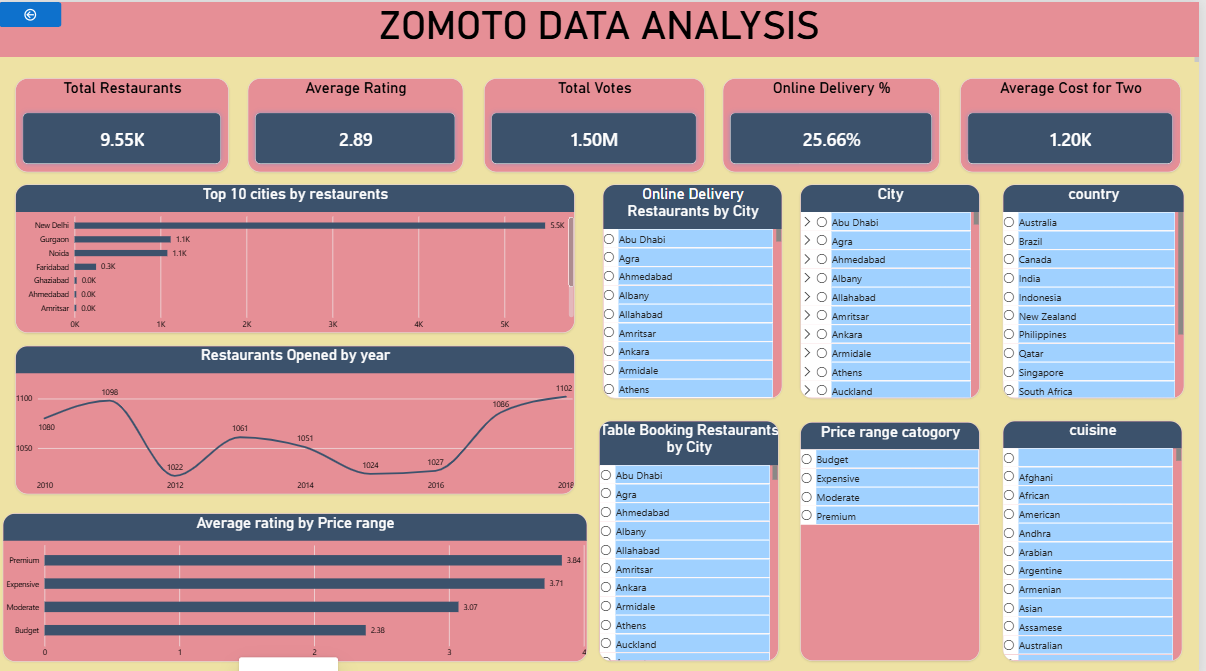

The page's visual inventory and layout, read from the dashboard file:
{"tool":"powerbi","page":{"name":"Dashboard2","canvas":[1920,1080],"ordinal":1},"visuals":[{"type":"textbox","title":"ZOMOTO DATA ANALYSIS","box":[0,0,1920.7,95.9],"z":0},{"type":"cardVisual","title":"Total Restaurants","fields":{"Data":["measures (2).Toatl restaurents"]},"box":[25,122.2,341.7,150],"z":1000},{"type":"cardVisual","title":"Average Rating","fields":{"Data":["measures (2).Avg rating"]},"box":[397.2,122.2,344.4,150],"z":2000},{"type":"cardVisual","title":"Total Votes","fields":{"Data":["measures (2).Total votes"]},"box":[775,122.2,352.8,150],"z":3000},{"type":"cardVisual","title":"Online Delivery %","fields":{"Data":["measures (2).Online Delivery %"]},"box":[1158.3,122.2,347.2,150],"z":4000},{"type":"cardVisual","title":"Average Cost for Two","fields":{"Data":["measures (2).Average Cost for Two"]},"box":[1538.9,122.2,352.8,150],"z":5000},{"type":"clusteredBarChart","title":"Top 10 cities by restaurents","fields":{"Category":["frestaurant.City"],"Y":["measures (2).Toatl restaurents"]},"box":[25,292.5,895,237.5],"z":6000},{"type":"clusteredBarChart","title":"Average rating by Price range ","fields":{"Category":["frestaurant.Price range catogory"],"Y":["measures (2).Avg rating"]},"box":[5,817.5,935,237.5],"z":10000},{"type":"lineChart","fields":{"Category":["dDate.year"],"Y":["measures (2).Restaurants Opened"]},"box":[25,550,895,237.5],"z":13000},{"type":"listSlicer","fields":{"Values":["frestaurant.Price range catogory"]},"box":[1282.5,672.5,287.5,382.5],"z":16000},{"type":"listSlicer","fields":{"Values":["frestaurant.City","dcountry.country"]},"box":[1282.5,292.5,287.5,342.5],"z":18000},{"type":"listSlicer","fields":{"Values":["frestaurant.City"]},"box":[965,292.5,287.5,342.5],"z":19000},{"type":"listSlicer","fields":{"Values":["frestaurant.City"]},"box":[960,670,287.5,385],"z":20000},{"type":"listSlicer","fields":{"Values":["fcuisines.cuisine"]},"box":[1605,670,287.5,385],"z":21000},{"type":"actionButton","box":[0,0,100,40],"z":22000},{"type":"listSlicer","fields":{"Values":["dcountry.country"]},"box":[1605,292.5,290,342.5],"z":22001}]}

Visuals, with their boxes in screenshot pixels (x1, y1, x2, y2), scaled from the page's 1920x1080 canvas onto the 1206x671 screenshot:
"ZOMOTO DATA ANALYSIS" textbox: bbox=(0, 0, 1205, 60)
"Total Restaurants" cardVisual: bbox=(16, 76, 230, 169)
"Average Rating" cardVisual: bbox=(249, 76, 466, 169)
"Total Votes" cardVisual: bbox=(487, 76, 708, 169)
"Online Delivery %" cardVisual: bbox=(728, 76, 946, 169)
"Average Cost for Two" cardVisual: bbox=(967, 76, 1188, 169)
"Top 10 cities by restaurents" clusteredBarChart: bbox=(16, 182, 578, 329)
"Average rating by Price range " clusteredBarChart: bbox=(3, 508, 590, 655)
lineChart - dDate.year x measures (2).Restaurants Opened: bbox=(16, 342, 578, 489)
listSlicer - frestaurant.Price range catogory: bbox=(806, 418, 986, 655)
listSlicer - frestaurant.City x dcountry.country: bbox=(806, 182, 986, 395)
listSlicer - frestaurant.City: bbox=(606, 182, 787, 395)
listSlicer - frestaurant.City: bbox=(603, 416, 784, 655)
listSlicer - fcuisines.cuisine: bbox=(1008, 416, 1189, 655)
actionButton: bbox=(0, 0, 63, 25)
listSlicer - dcountry.country: bbox=(1008, 182, 1190, 395)
